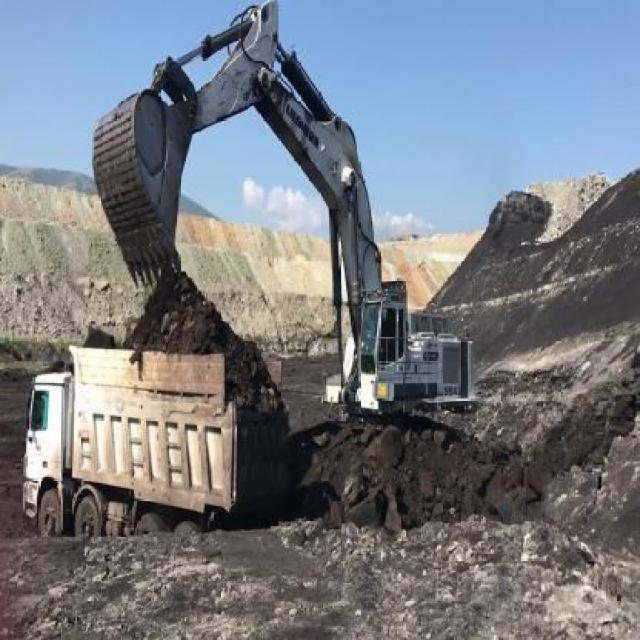Dump Truck: (20, 343, 292, 539)
Excavator: (87, 0, 476, 423)
